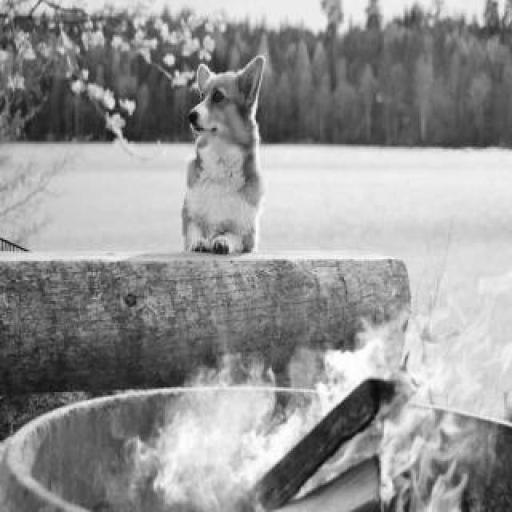smoke: (101, 309, 315, 510), (314, 372, 462, 510)
